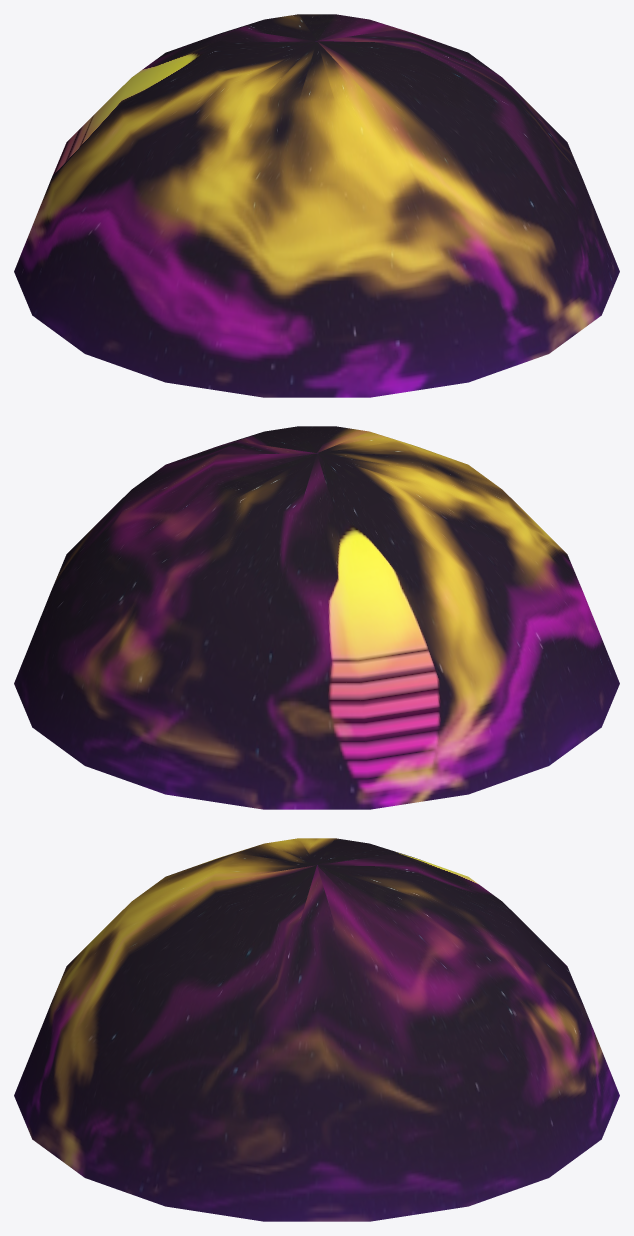
The model's file is Spongebob's House.FBX.
The picture shows the model from 3 angles, top to bottom: view 1: azimuth 30°, elevation 25°; view 2: azimuth 150°, elevation 25°; view 3: azimuth 270°, elevation 25°; orthographic projection.
Visible parts, largest first — view 1: Skybox; view 2: Skybox; view 3: Skybox.
Boxes of the visible parts, left/top/right/bottom form: Skybox: left=14, top=14, right=619, bottom=397; Skybox: left=14, top=426, right=619, bottom=809; Skybox: left=14, top=838, right=619, bottom=1221.
Bounding box in the file's own units: 1164 × 496 × 1182.
